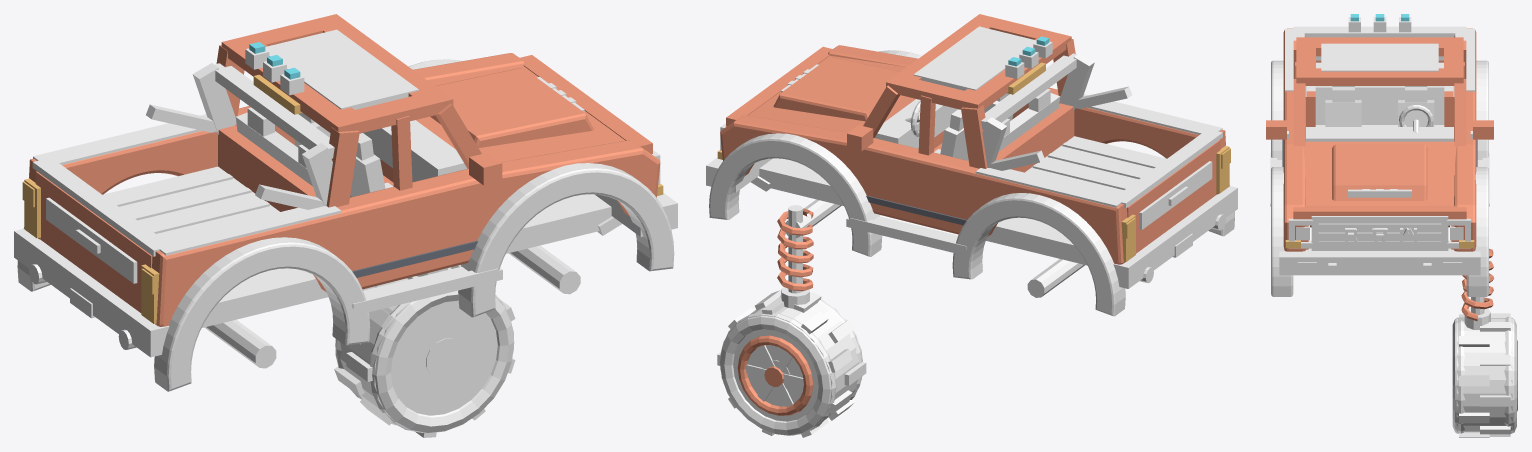
3 renders of one model, left to right at view 1: azimuth 30°, elevation 25°; view 2: azimuth 150°, elevation 25°; view 3: azimuth 270°, elevation 25°, orthographic. The views are drawn at different scales.
Parts seen in each view (by area): view 1: common, bodyPainted, wheel, backLights, energy, stopLights; view 2: common, bodyPainted, wheel, wheelSuspension, wheelPainted, backLights, energy; view 3: common, bodyPainted, wheel, headlights, wheelSuspension.
Boxes of the visible parts, x1,y1,x2,y2 form: common: (14, 29, 677, 391); bodyPainted: (29, 14, 660, 326); wheel: (334, 265, 515, 437); backLights: (24, 178, 159, 323); energy: (352, 240, 477, 277); stopLights: (253, 74, 302, 114); common: (706, 26, 1237, 316); bodyPainted: (720, 14, 1225, 264); wheel: (717, 290, 866, 437); wheelSuspension: (777, 205, 813, 308); wheelPainted: (737, 335, 813, 415); backLights: (1121, 145, 1229, 262); energy: (866, 195, 966, 225); common: (1270, 26, 1489, 296); bodyPainted: (1266, 28, 1493, 251); wheel: (1452, 313, 1516, 437); headlights: (1288, 189, 1470, 271); wheelSuspension: (1461, 248, 1494, 329).
Bounding box in the file's own units: 3.17 × 2.67 × 1.8.
